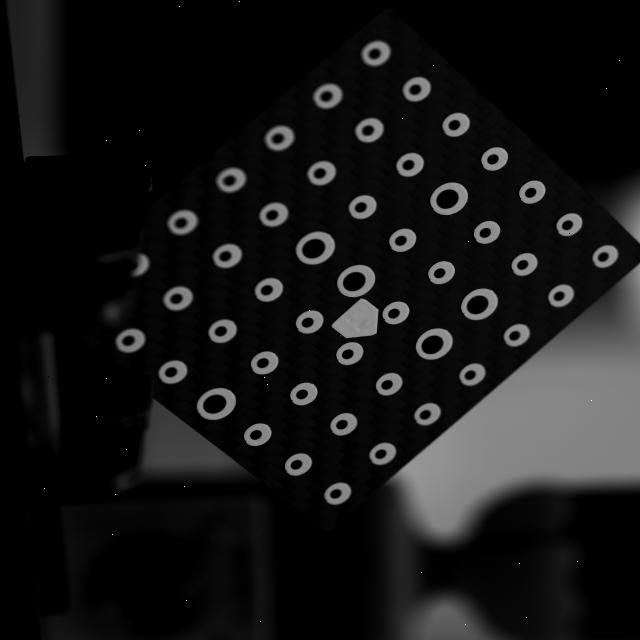circle point: (436, 189, 458, 209), (342, 272, 364, 291), (202, 396, 225, 414), (302, 240, 324, 258), (466, 296, 488, 314), (420, 336, 442, 354), (478, 228, 491, 238), (408, 85, 420, 95), (447, 120, 459, 130), (486, 154, 498, 164), (524, 188, 536, 198), (432, 268, 444, 278), (394, 236, 406, 246), (387, 309, 399, 319), (300, 318, 312, 328), (340, 350, 352, 360), (256, 358, 268, 368), (214, 326, 226, 336), (249, 430, 261, 440), (290, 460, 302, 470), (295, 390, 307, 400), (380, 380, 392, 390), (165, 367, 177, 377), (419, 410, 430, 420), (369, 50, 379, 60), (355, 202, 365, 212), (517, 260, 527, 270), (336, 420, 346, 430), (175, 218, 185, 228), (561, 221, 572, 230), (122, 337, 134, 345), (266, 211, 276, 220), (509, 332, 519, 341), (402, 162, 412, 170), (314, 170, 324, 178), (597, 253, 607, 261), (554, 292, 564, 300), (261, 286, 271, 294), (220, 252, 230, 260), (170, 295, 180, 303), (362, 127, 372, 135), (272, 135, 282, 143), (464, 371, 474, 379), (374, 450, 384, 458), (330, 490, 340, 498), (322, 92, 331, 100), (224, 177, 233, 185)
white circle: (295, 232, 334, 264), (196, 388, 235, 420), (429, 183, 467, 215), (336, 266, 374, 298), (415, 328, 452, 360), (460, 289, 497, 320), (360, 41, 390, 65), (157, 361, 187, 384), (441, 113, 469, 137), (395, 153, 423, 177), (306, 162, 334, 186), (388, 228, 416, 252), (254, 278, 282, 302), (354, 118, 382, 142), (312, 84, 340, 108), (335, 342, 363, 366), (250, 351, 278, 375), (402, 77, 429, 101), (480, 147, 507, 171), (347, 196, 375, 219), (472, 220, 500, 243), (294, 311, 322, 334), (289, 382, 317, 405), (328, 413, 356, 436), (115, 330, 144, 352), (518, 180, 545, 203), (213, 245, 240, 268), (208, 320, 235, 343), (162, 288, 190, 310), (264, 128, 292, 150), (259, 204, 287, 226), (243, 424, 271, 446), (167, 212, 195, 234), (428, 260, 453, 284), (556, 213, 582, 236), (592, 245, 618, 268), (375, 373, 401, 396), (216, 169, 243, 191), (284, 453, 311, 475), (413, 403, 440, 425), (511, 253, 536, 276), (547, 285, 573, 307), (382, 302, 408, 324), (458, 364, 484, 386), (502, 324, 528, 346), (368, 443, 394, 465), (324, 482, 350, 504)
